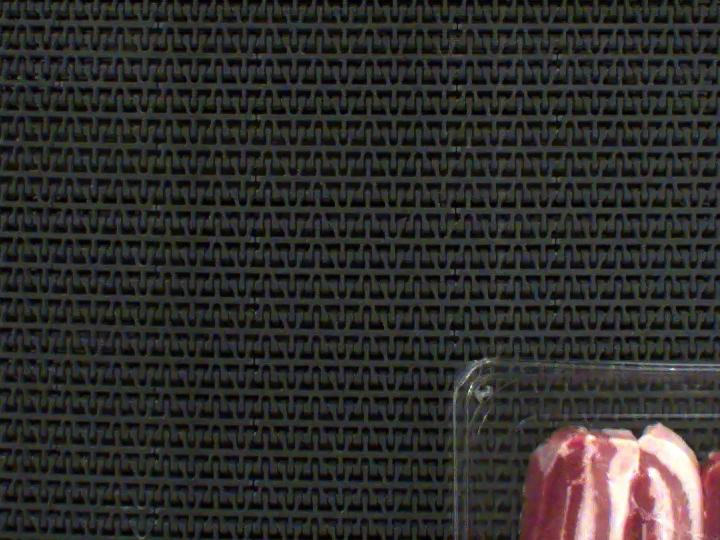wrinkle: (631, 496, 720, 540)
